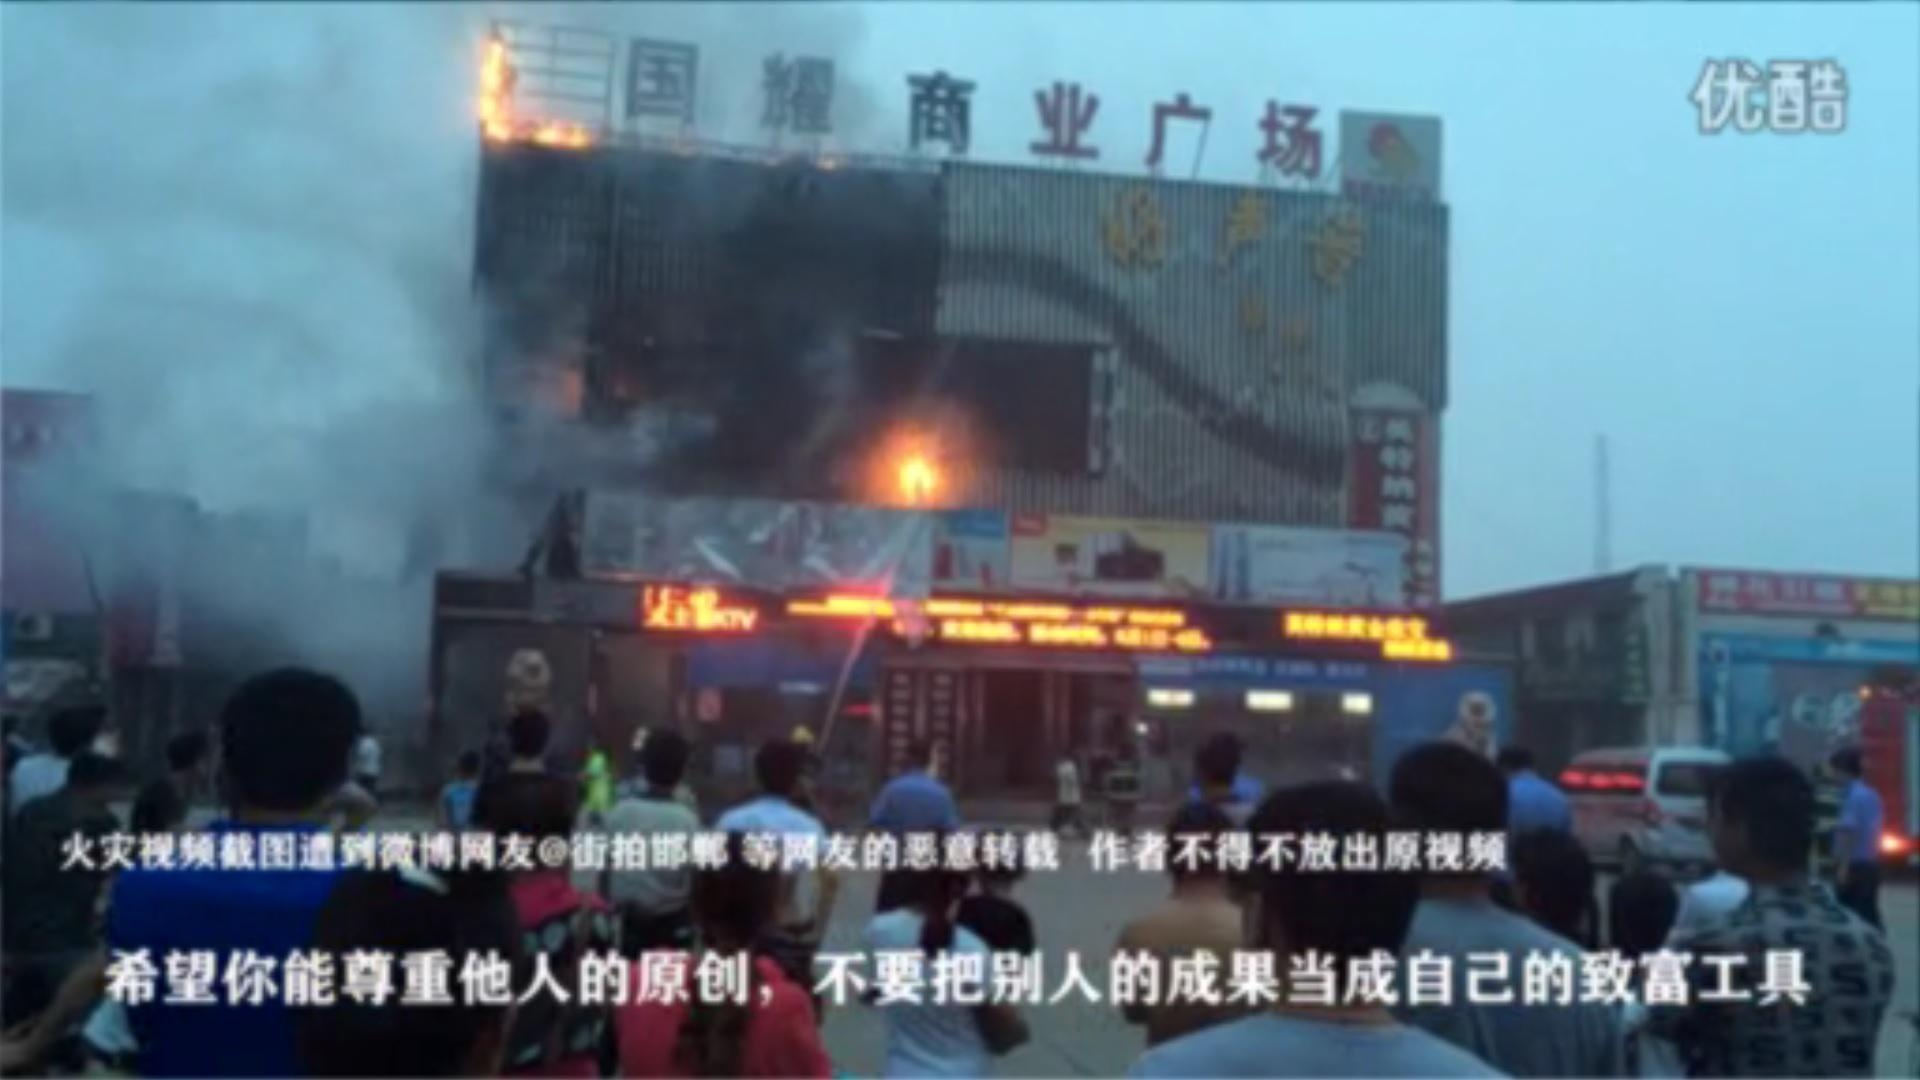fire: (471, 33, 579, 146)
